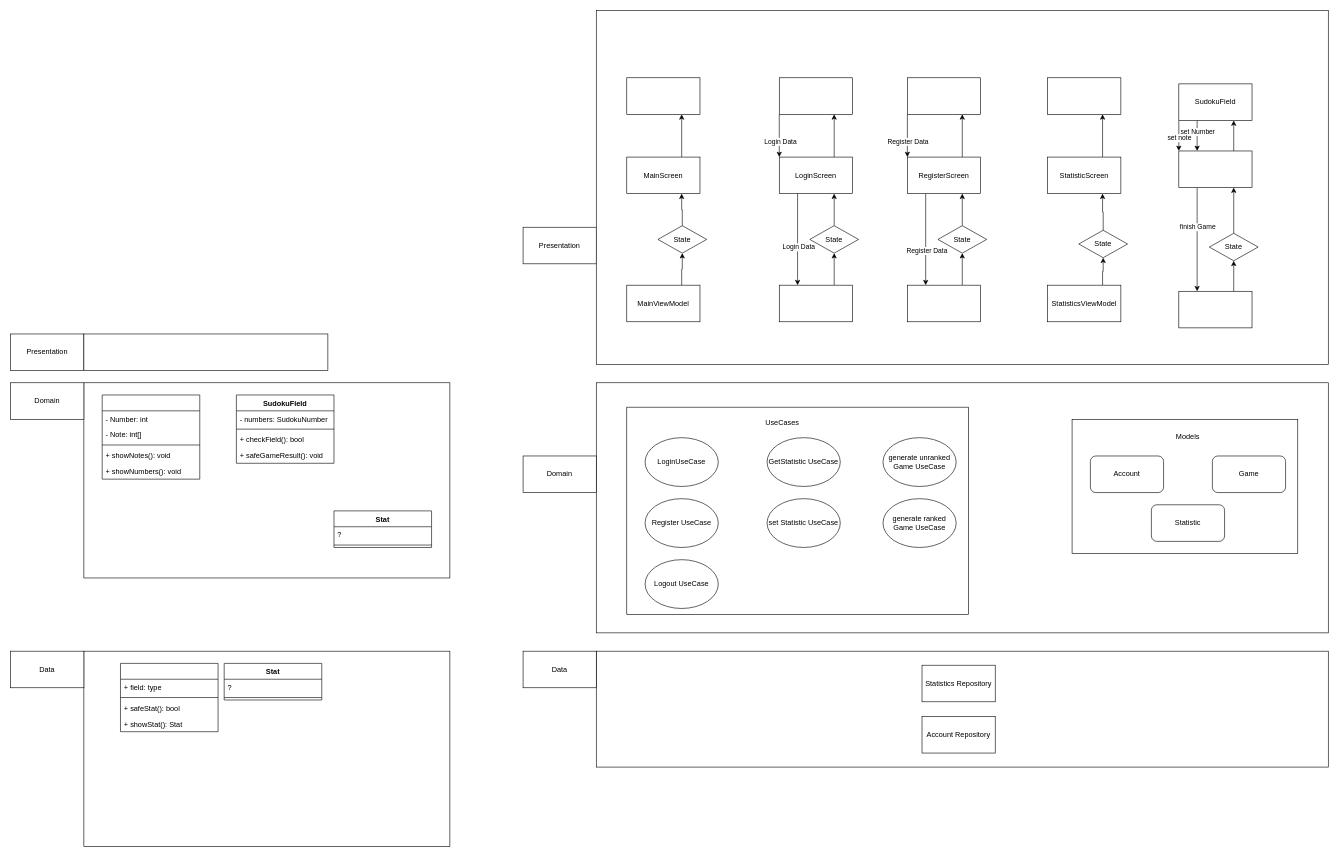
Some shapes in this 1339 by 857 pixel diagram are drawn without their labels. The box of each missing label's shape, as (x1, y1, x2, y2) in pixels:
BackEndClass: (120, 663, 218, 732)
GameViewModel: (1178, 291, 1252, 328)
Login Item: (779, 77, 852, 114)
LoginViewModel: (779, 285, 852, 322)
Navigation Item: (626, 77, 700, 114)
Register item: (907, 77, 981, 114)
RegisterViewModel: (907, 285, 981, 322)
StatisticChart: (1047, 77, 1121, 114)
SudokuNumber: (102, 394, 200, 479)
SudokuScreen: (1178, 150, 1252, 188)
